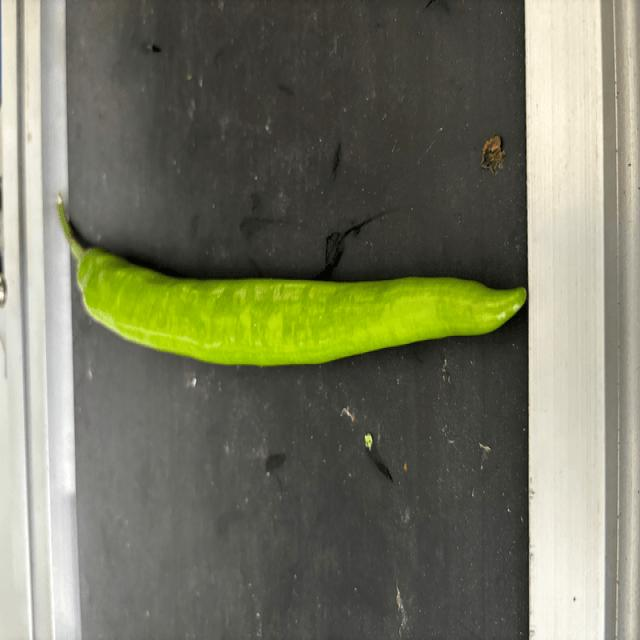chili: (73, 244, 529, 369)
